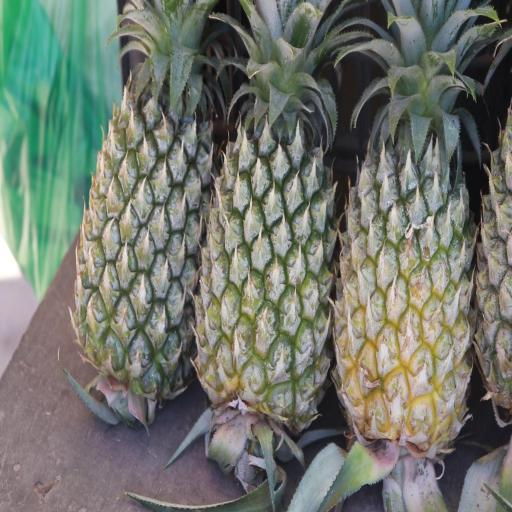------------------------------: (330, 0, 479, 461)
